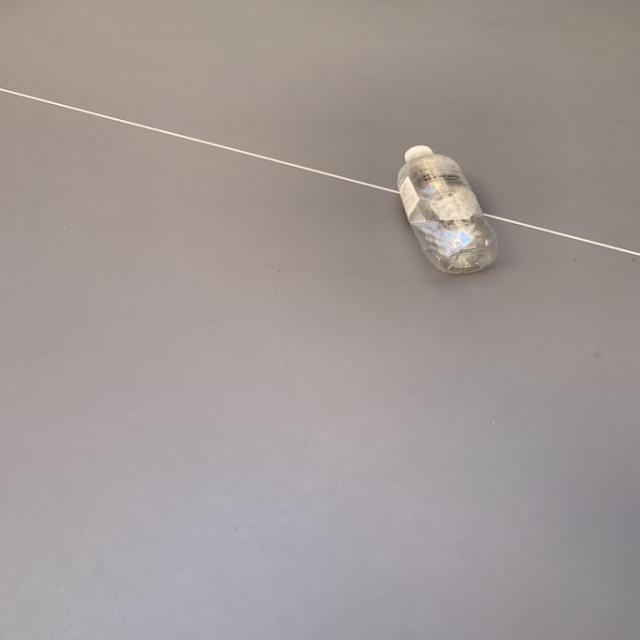Waste: (398, 145, 498, 274)
